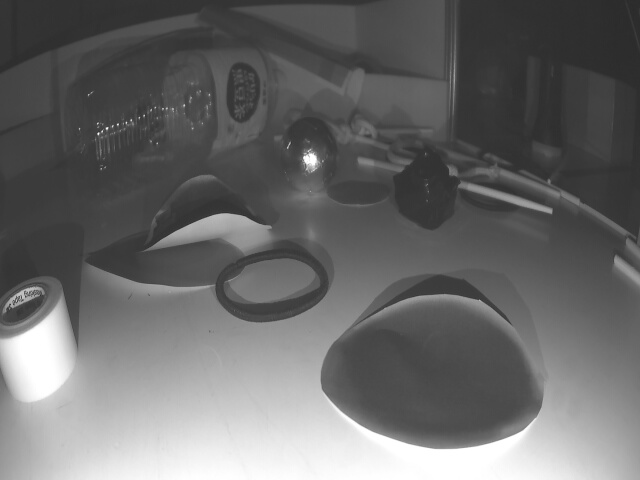Dead: (393, 152, 454, 224)
Live: (279, 119, 335, 193)
Point: (358, 63, 447, 138), (0, 114, 49, 186)
